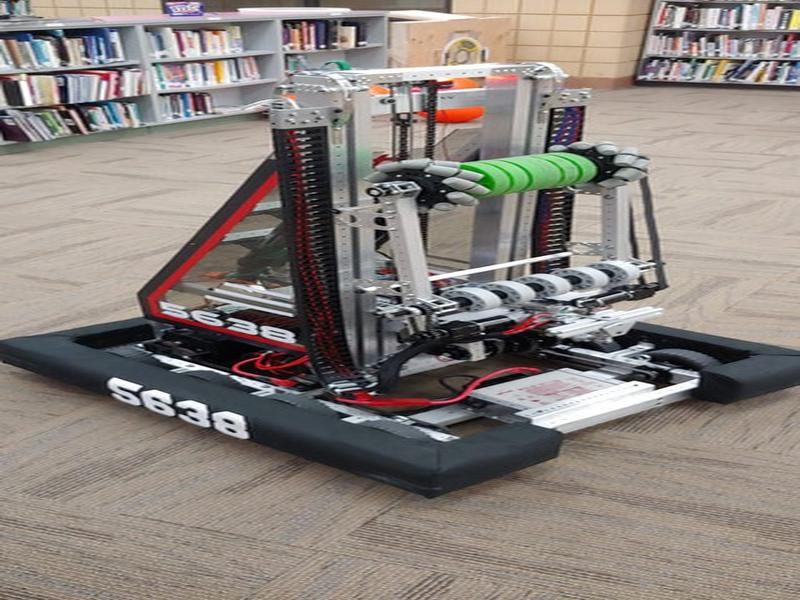robot: (8, 56, 800, 498)
